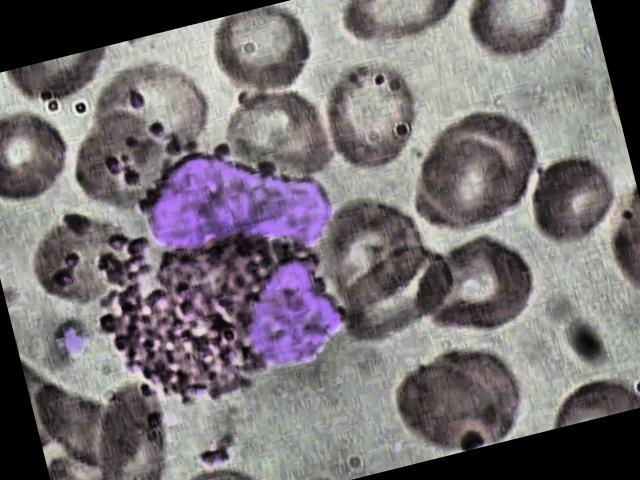Platelets: (40, 311, 102, 366)
RBC: (379, 332, 536, 466), (324, 237, 468, 360), (306, 47, 433, 185), (209, 76, 338, 202), (17, 196, 153, 314), (198, 0, 334, 109), (49, 103, 176, 218), (71, 374, 190, 480), (518, 148, 625, 253), (447, 0, 577, 77), (0, 102, 80, 213), (323, 0, 468, 57)
WBC: (52, 120, 368, 428)
